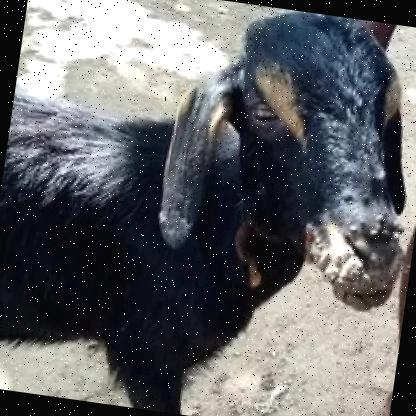ppr: (302, 212, 412, 313)
